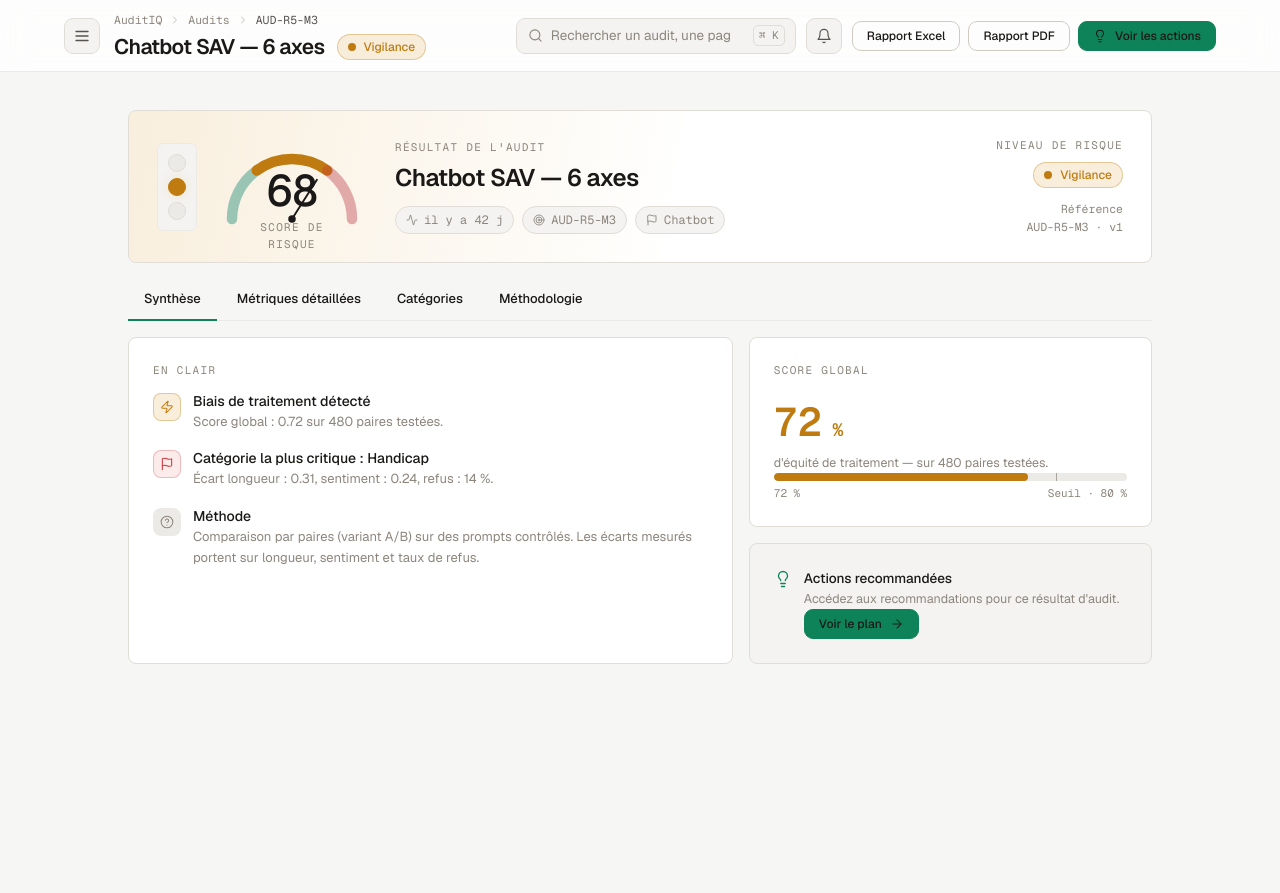
Test: R5 M3 — HeatMap6Axes pads to 6 when fewer categories › still renders exactly 6 axis status elements with only 3 categories
Click the tab "Catégories".
click(430, 300)  # box [381, 279, 479, 321]
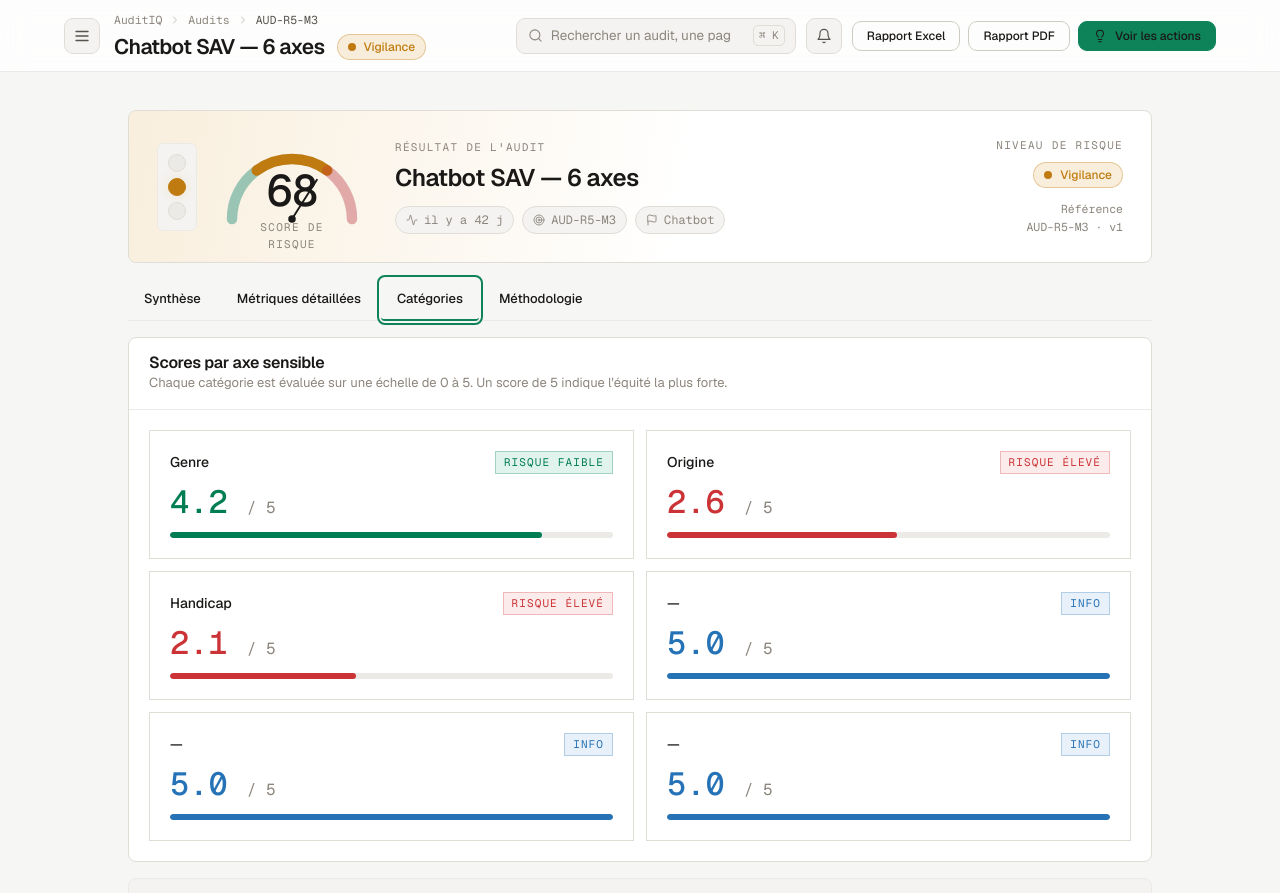
Check: the number of messages named "sur 5" is 6, box [149, 430, 634, 559]; [646, 430, 1131, 559]; [149, 571, 634, 700]; [646, 571, 1131, 700]; [149, 712, 634, 841]; [646, 712, 1131, 841]
